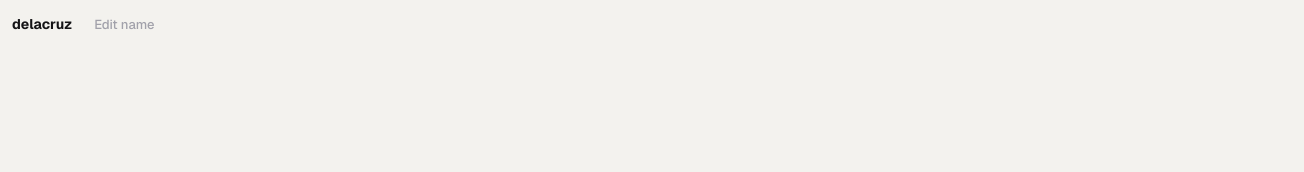
Test: ProfileName › cancels without saving
The width and height of the screenshot is (1304, 172).
Step 1. Click the button "Edit name" → {"x": 124, "y": 25}, box [84, 12, 165, 38]
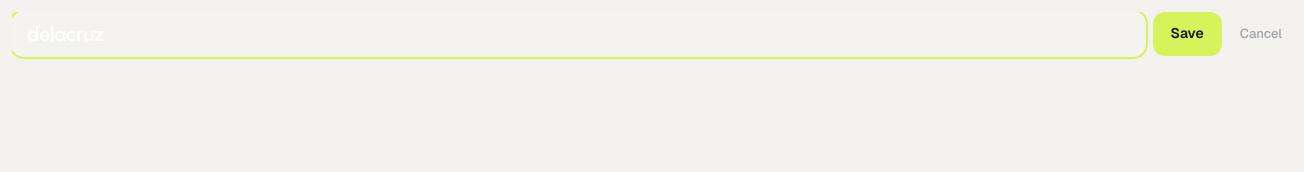
Step 2. Click the button "Cancel" → {"x": 1261, "y": 34}, box [1230, 21, 1292, 47]
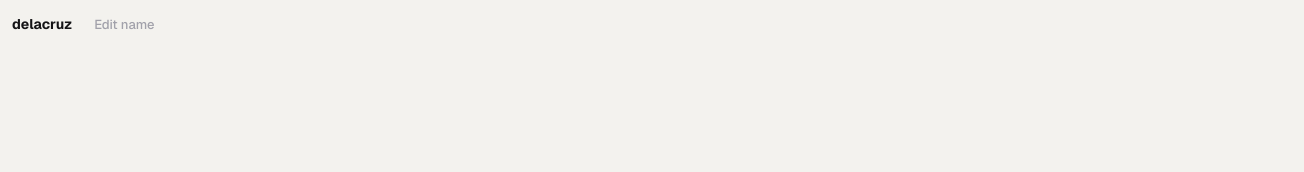
Result: the text "delacruz" is shown at [12, 15, 72, 35]
